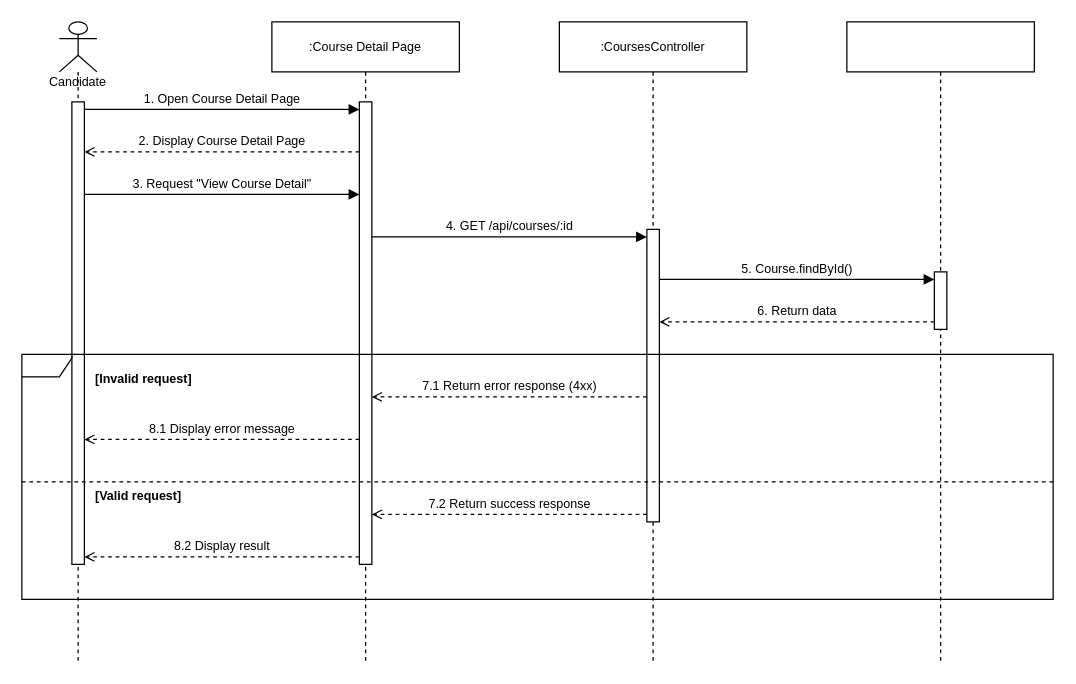
Some shapes in this 1076 by 684 pixel diagram are drawn without their labels. Here are the shapes that lost their labels. From the top down, the centre of each, then its label:
At (x=940, y=341): ":Database".
At (x=537, y=476): "alt".
